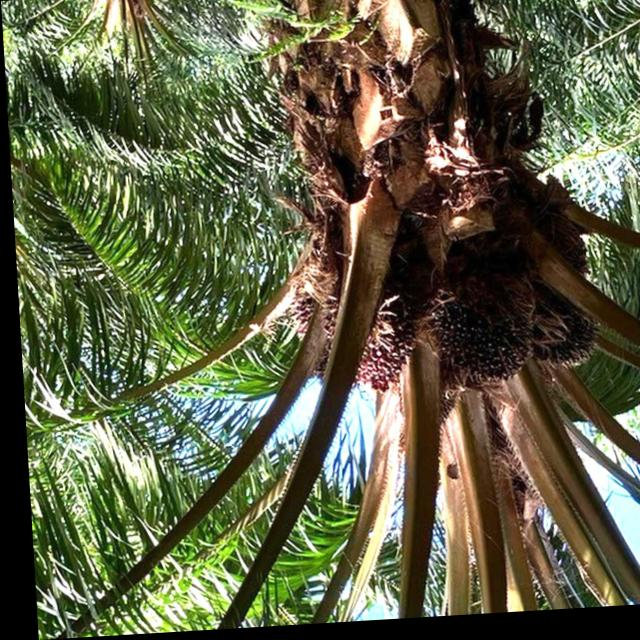ripe: (427, 288, 528, 389), (339, 293, 411, 396)
